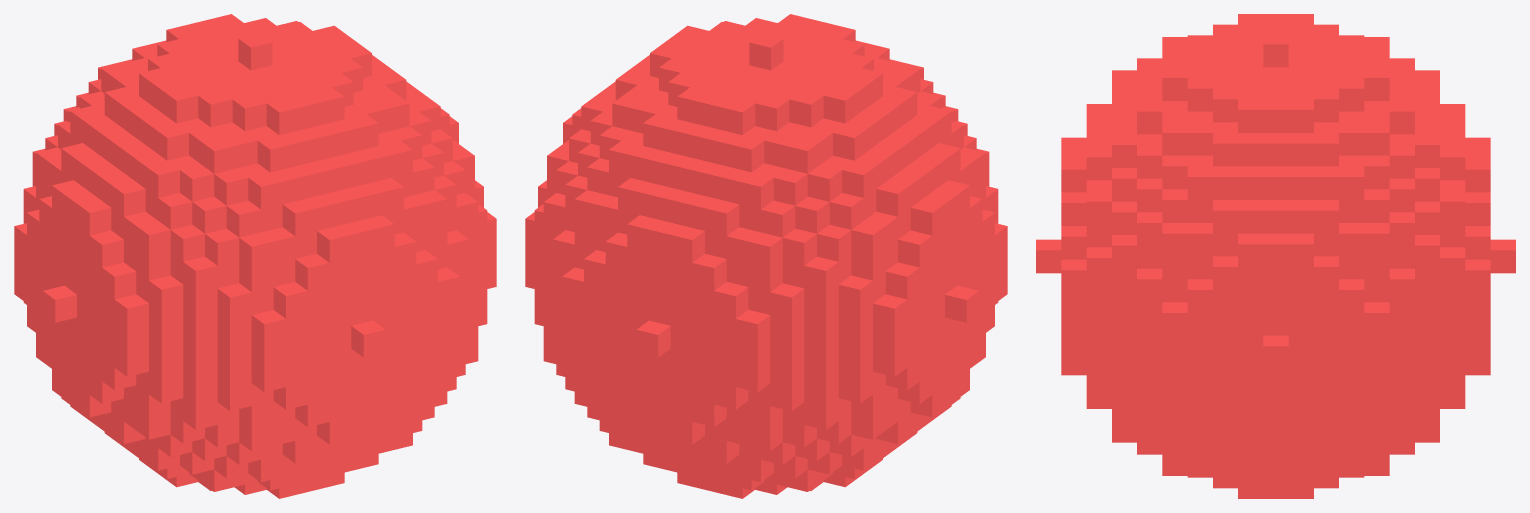
The model's file is 原子吐息炮弹.gltf.
3 views of the same model, side by side, from view 1: azimuth 30°, elevation 25°; view 2: azimuth 150°, elevation 25°; view 3: azimuth 270°, elevation 25° (orthographic).
Parts seen in each view (by area): view 1: Object; view 2: Object; view 3: Object.
Boxes of the visible parts, box(x1,y1,x2,y2) form: Object: box(14, 14, 496, 498); Object: box(525, 14, 1007, 498); Object: box(1036, 14, 1515, 498).
Bounding box in the file's own units: 19 × 19 × 19.
1 material, 1 textured.
